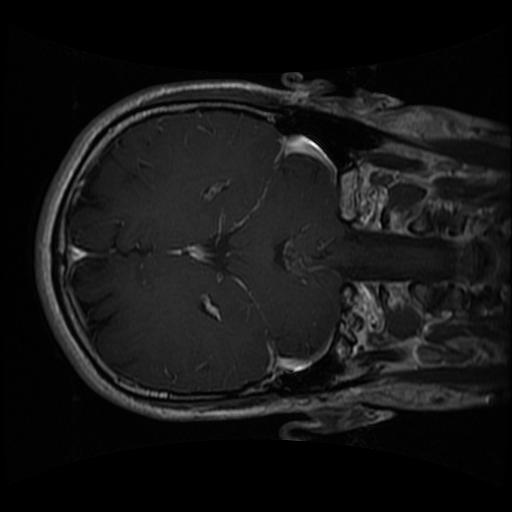glioma: (272, 227, 335, 287)
